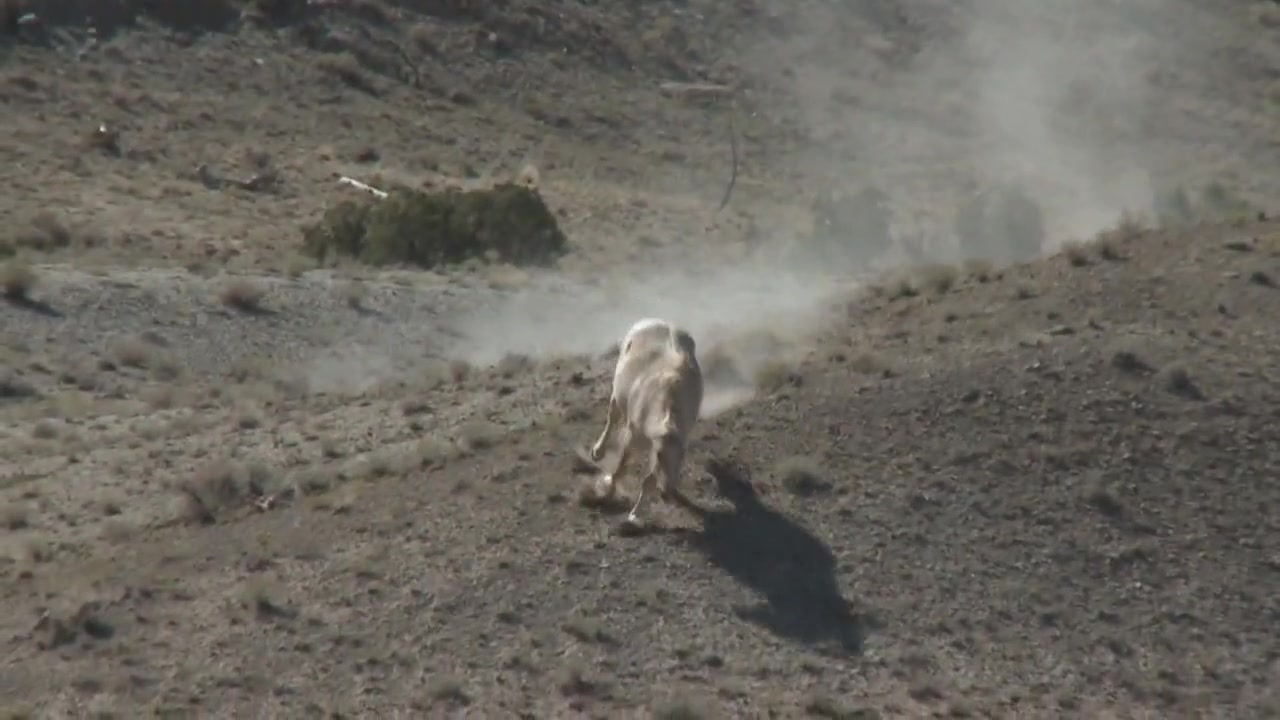horse: (588, 321, 712, 531)
